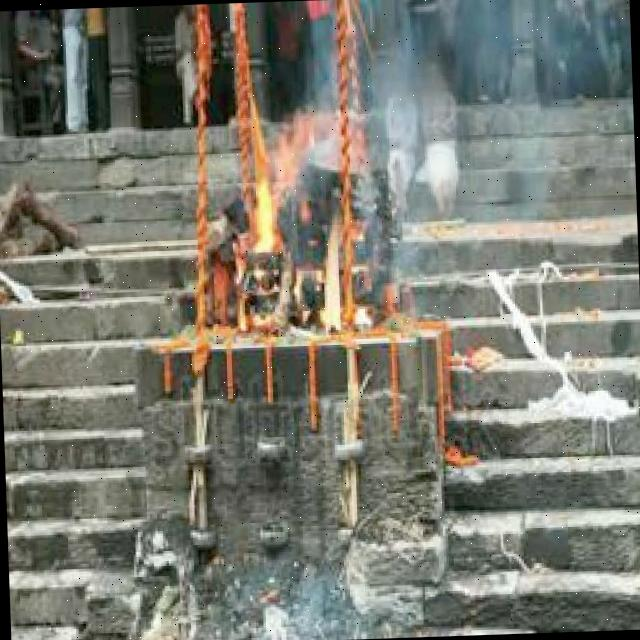fire: (238, 110, 312, 260), (310, 215, 368, 337)
